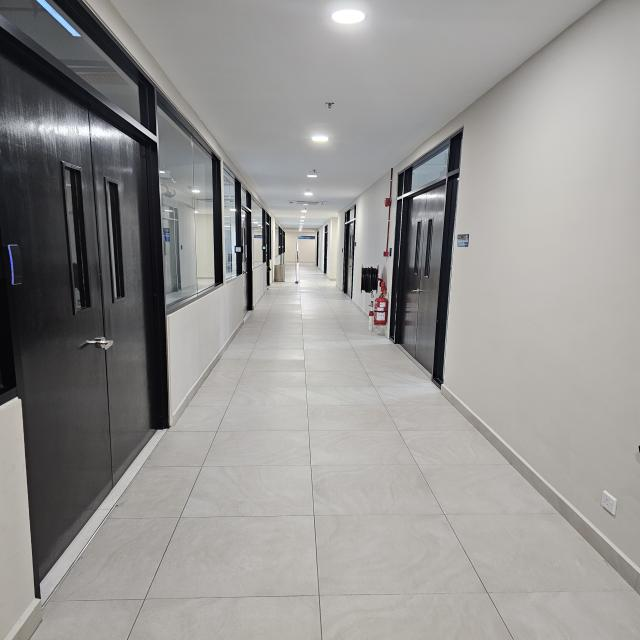door: (2, 30, 168, 599), (398, 192, 451, 380)
footpath: (160, 378, 534, 637)
obstacle: (356, 258, 392, 328)
